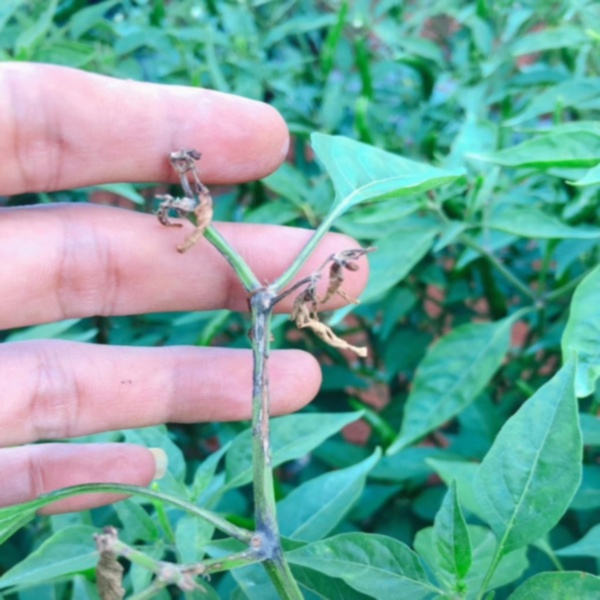blight: (82, 527, 213, 600), (295, 242, 376, 359), (239, 284, 288, 468), (154, 144, 217, 258), (227, 507, 292, 570)
